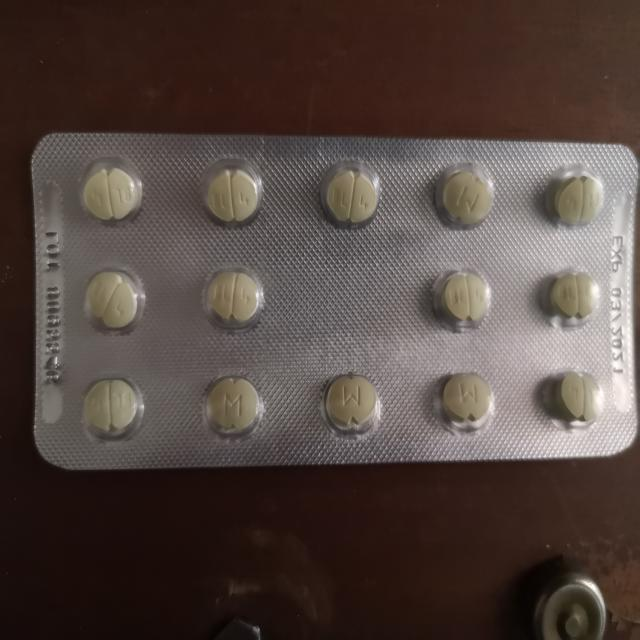Pill: (76, 266, 152, 337), (198, 263, 272, 333), (78, 372, 149, 443), (430, 160, 500, 232), (75, 158, 150, 225), (318, 370, 388, 440), (197, 372, 265, 442), (196, 160, 268, 226), (319, 162, 385, 230), (433, 367, 499, 434), (432, 266, 498, 333), (547, 364, 608, 431), (544, 165, 605, 231), (546, 264, 600, 328)
